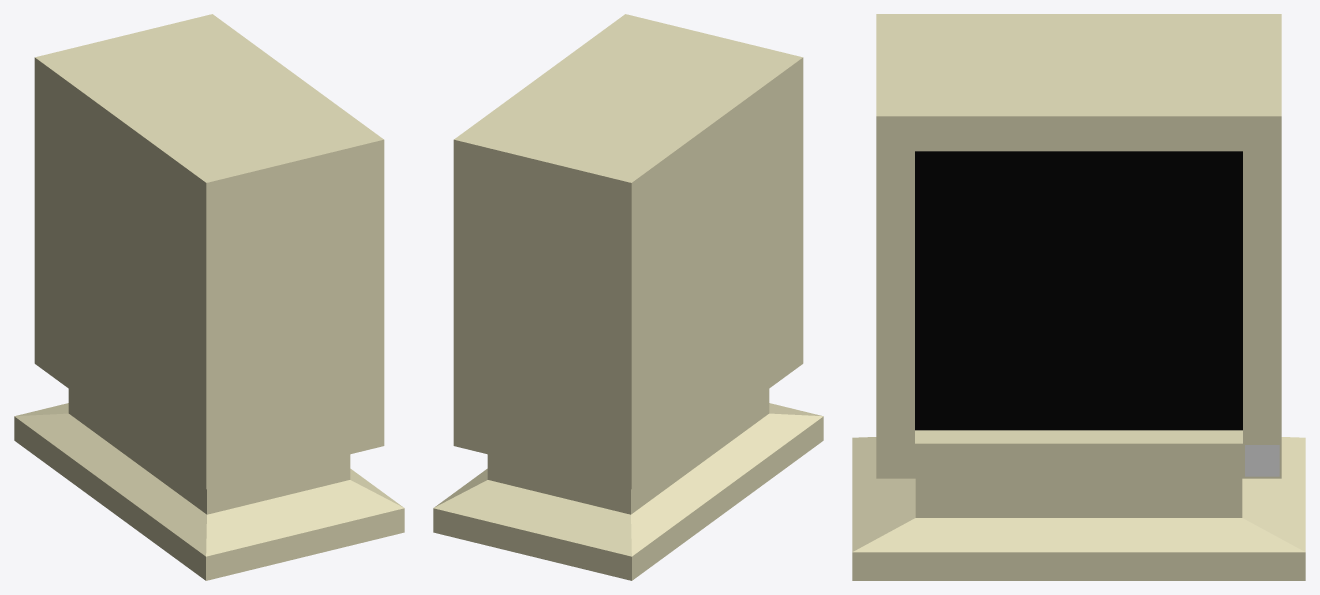
The model's file is Monitor.fbx.
3 views of the same model, side by side, from view 1: azimuth 30°, elevation 25°; view 2: azimuth 150°, elevation 25°; view 3: azimuth 270°, elevation 25° (orthographic). The views are drawn at different scales.
Parts seen in each view (by area): view 1: Cube.004; view 2: Cube.004; view 3: Cube.004, Cube.005, Plane.
Part boxes in pixels (bbox=[...]): Cube.004: bbox=[14, 14, 404, 580]; Cube.004: bbox=[433, 14, 823, 580]; Cube.004: bbox=[852, 14, 1305, 580]; Cube.005: bbox=[915, 151, 1242, 430]; Plane: bbox=[1245, 445, 1279, 476].
Bounding box in the file's own units: 136 × 253 × 227.
